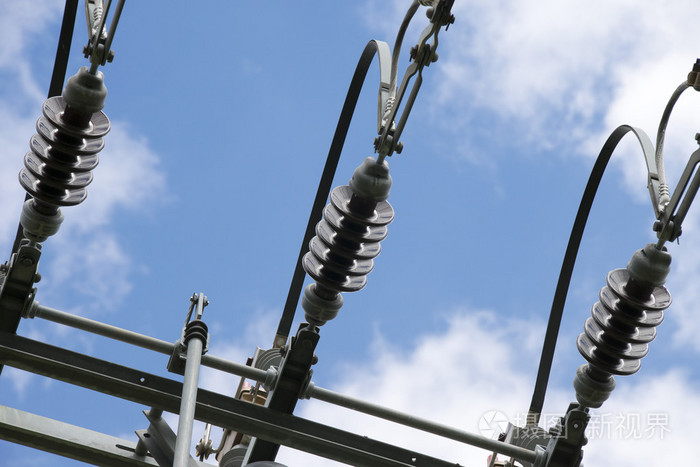insulator: (19, 91, 115, 205), (300, 184, 395, 292), (575, 269, 670, 374)
